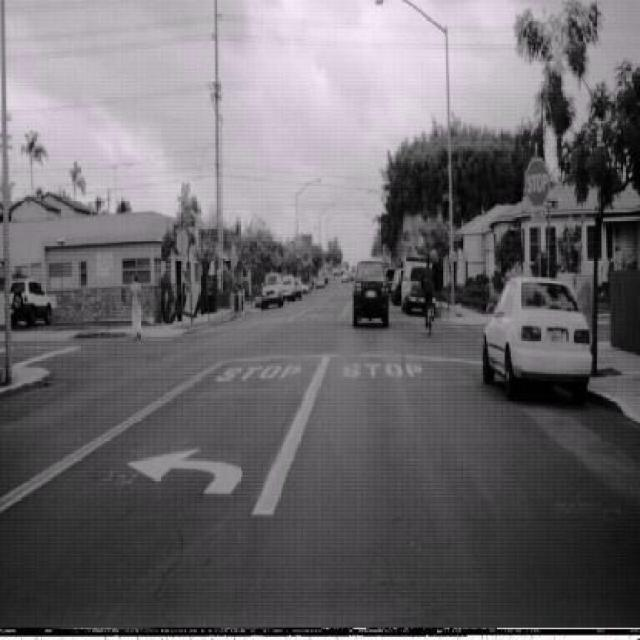stop: (523, 156, 550, 208)
